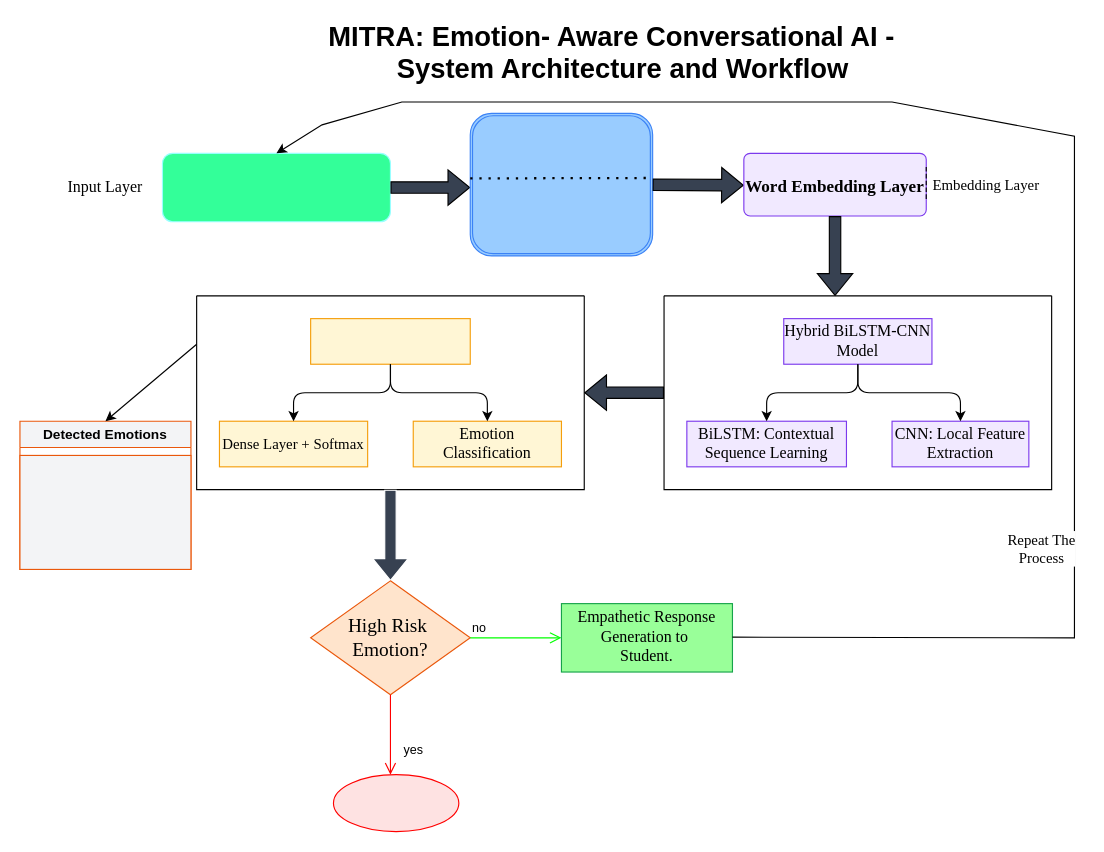
This 1104x852 diagram has some shape labels left out. The shapes that lost their labels are listed below. From the top down, each one's centre as x and y in pixels, then its label:
At point (275, 187): "Student Text Input(Chat Messages)".
At point (561, 184): "Text Processing Layer 1. Cleaning 2. Tokenization 3. Padding".
At point (390, 340): "Attention Based Feature Fusion".
At point (105, 511): "1. Stress 2. Sad 3. Anger 4. Love 5. Joy 6. Fear".
At point (395, 802): "Counselor Alert.".
